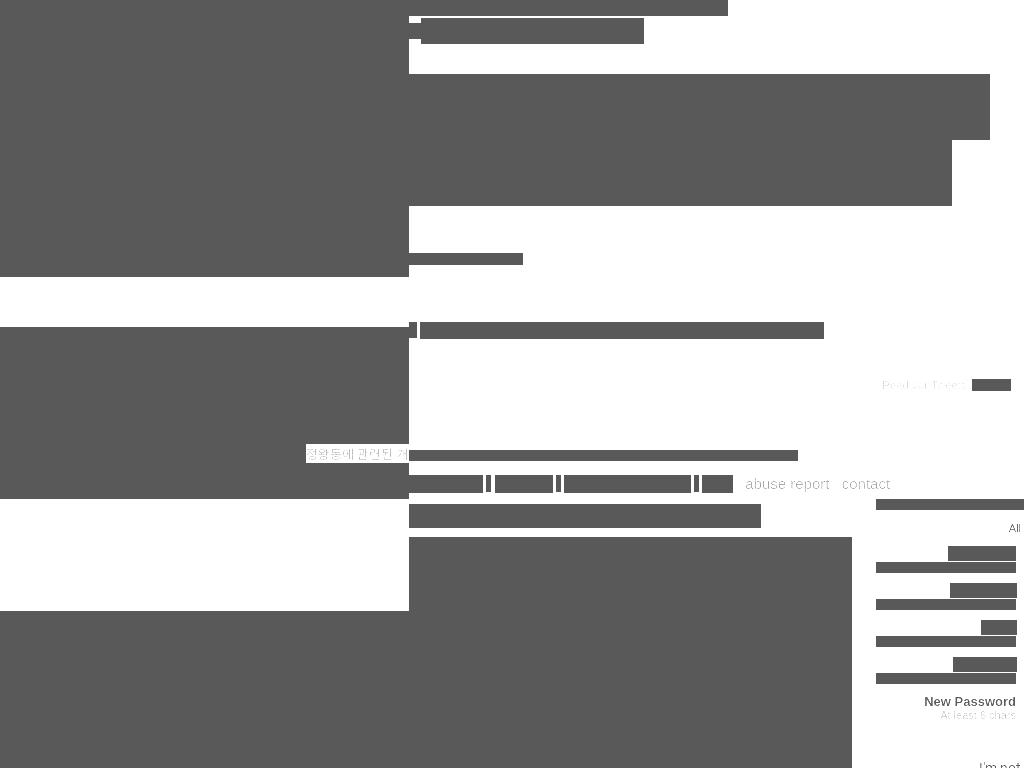button: (0, 612, 186, 768), (205, 398, 409, 499), (0, 398, 186, 499), (206, 632, 409, 697), (420, 322, 824, 339), (564, 475, 691, 493), (745, 475, 830, 493), (409, 475, 483, 493), (495, 475, 553, 493), (841, 475, 890, 493), (702, 475, 733, 493)
field: (421, 18, 644, 44)
heading: (0, 0, 409, 277), (0, 327, 409, 499), (409, 74, 990, 140), (409, 140, 952, 206), (206, 632, 409, 697), (409, 504, 761, 528)
image: (0, 0, 409, 277), (409, 537, 852, 768), (0, 612, 186, 768), (230, 424, 290, 484)
link: (0, 420, 161, 441), (0, 444, 161, 463), (306, 420, 409, 441), (306, 444, 409, 463), (306, 469, 364, 488), (484, 253, 523, 265), (972, 379, 1011, 391)
text: (0, 611, 409, 768), (206, 707, 409, 768), (876, 510, 1024, 546), (192, 327, 409, 348), (409, 450, 798, 461), (504, 0, 728, 16), (876, 562, 1016, 573), (876, 599, 1016, 610), (876, 636, 1016, 647), (876, 673, 1016, 684), (876, 710, 1016, 721), (409, 0, 505, 16), (924, 694, 1017, 709), (882, 379, 974, 391), (948, 546, 1016, 561), (950, 583, 1017, 598), (953, 657, 1017, 672), (409, 253, 485, 265), (40, 469, 86, 488), (367, 469, 409, 488), (0, 469, 40, 488), (981, 620, 1017, 635), (409, 322, 417, 338), (486, 475, 491, 492), (556, 475, 561, 492), (694, 475, 699, 492), (737, 475, 742, 492), (833, 475, 838, 492)
